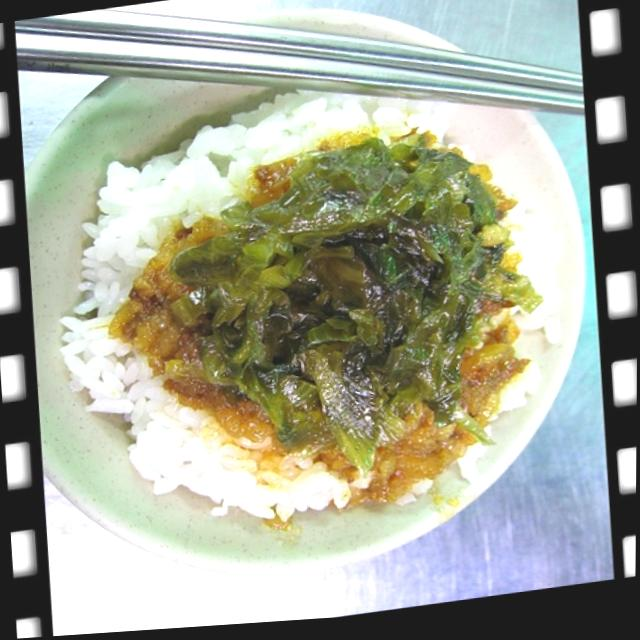猪肉菜式: (50, 21, 560, 569)
